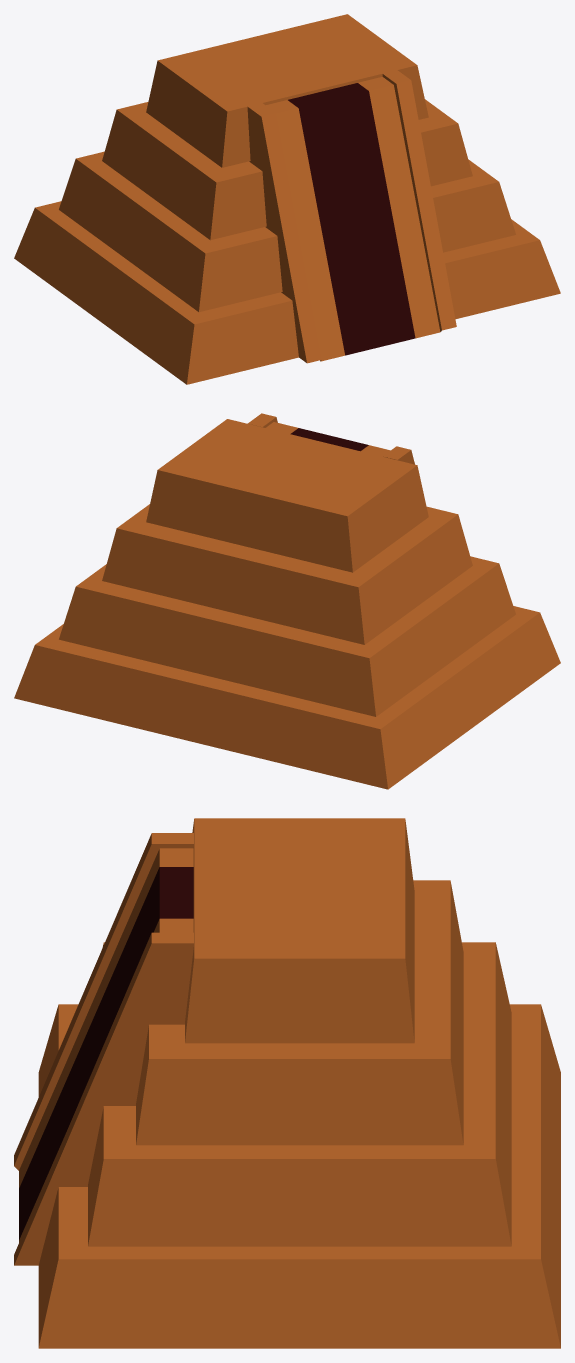
File: TempleMain 1.fbx
3 renders of one model, top to bottom at view 1: azimuth 30°, elevation 25°; view 2: azimuth 150°, elevation 25°; view 3: azimuth 270°, elevation 25°, orthographic. The views are drawn at different scales.
Parts seen in each view (by area): view 1: TempleMain; view 2: TempleMain; view 3: TempleMain.
Boxes of the visible parts, bbox=[...] form: TempleMain: bbox=[14, 14, 560, 384]; TempleMain: bbox=[14, 413, 560, 789]; TempleMain: bbox=[14, 818, 560, 1348].
Size of the model in its own units: 379 by 210 by 318.
